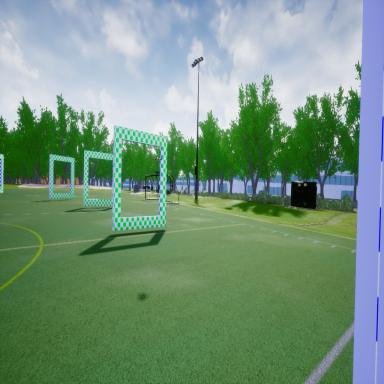gate: (113, 119, 167, 238), (80, 144, 121, 212), (46, 148, 76, 204)
